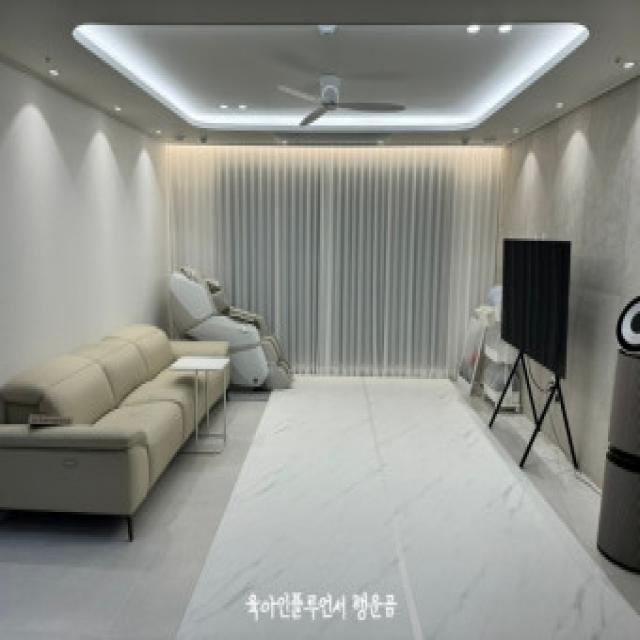Chair: (170, 269, 303, 392)
Sofa: (5, 322, 232, 542)
Table: (175, 353, 227, 464)
tv: (499, 234, 568, 382)
window: (176, 138, 486, 292)
